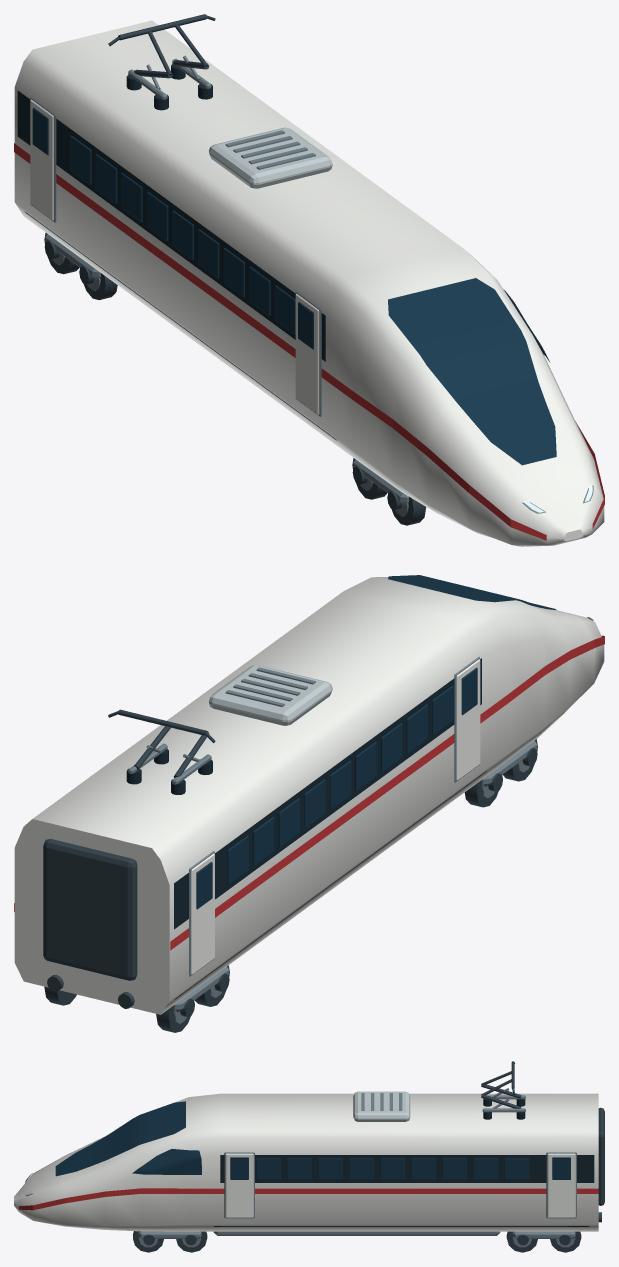
The model's file is high-speed-rail.glb.
The picture shows the model from 3 angles, top to bottom: view 1: azimuth 30°, elevation 25°; view 2: azimuth 150°, elevation 25°; view 3: azimuth 270°, elevation 25°; orthographic projection. The views are drawn at different scales.
Visible parts, largest first — view 1: high-speed-rail; view 2: high-speed-rail; view 3: high-speed-rail.
Boxes of the visible parts, x1=… form: high-speed-rail: x1=14, y1=14, x2=604, y2=546; high-speed-rail: x1=14, y1=575, x2=604, y2=1032; high-speed-rail: x1=14, y1=1061, x2=604, y2=1252.
Size of the model in its own units: 2.1 by 3.21 by 10.72.
